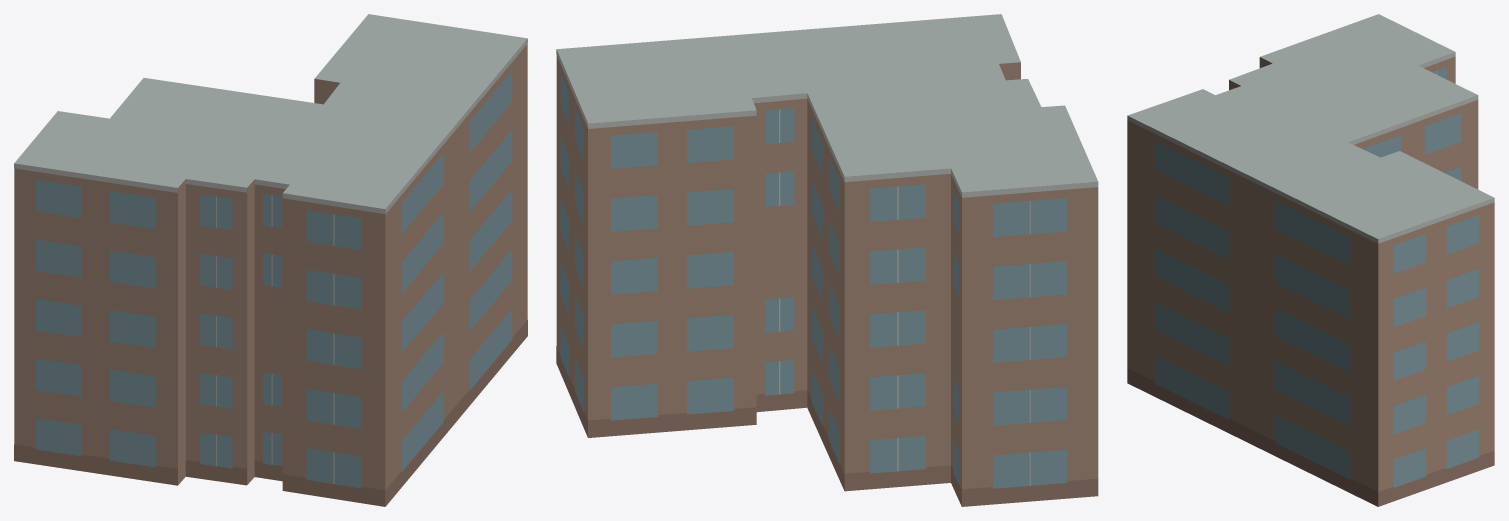
File: survey-upis-32711739.glb
The picture shows the model from 3 angles, left to right: view 1: azimuth 30°, elevation 25°; view 2: azimuth 150°, elevation 25°; view 3: azimuth 270°, elevation 25°; orthographic projection. The views are drawn at different scales.
Visible parts, largest first — view 1: survey-upis-32711739.tmp; view 2: survey-upis-32711739.tmp; view 3: survey-upis-32711739.tmp.
Part boxes in pixels (box(x1,y1,x2,y2)): survey-upis-32711739.tmp: box(14, 14, 527, 506); survey-upis-32711739.tmp: box(556, 14, 1098, 506); survey-upis-32711739.tmp: box(1127, 14, 1494, 506).
Bounding box in the file's own units: 25.99 × 14.4 × 17.91.
